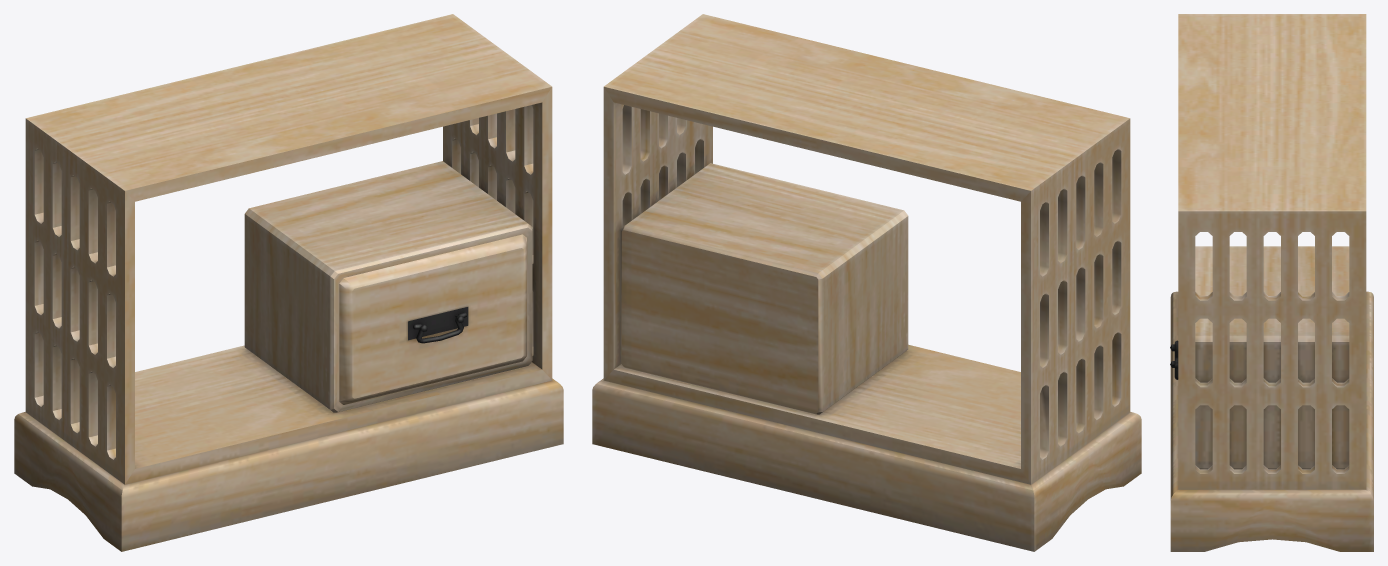
The model's file is Shelf1.c.fbx.
The picture shows the model from 3 angles, left to right: view 1: azimuth 30°, elevation 25°; view 2: azimuth 150°, elevation 25°; view 3: azimuth 270°, elevation 25°; orthographic projection. The views are drawn at different scales.
Visible parts, largest first — view 1: Group 0; view 2: Group 0; view 3: Group 0.
Part boxes in pixels (bbox=[...]): Group 0: bbox=[14, 14, 563, 551]; Group 0: bbox=[592, 14, 1141, 551]; Group 0: bbox=[1170, 14, 1373, 551].
Size of the model in its own units: 93.55 by 72.02 by 39.48.
1 material, 1 textured.
